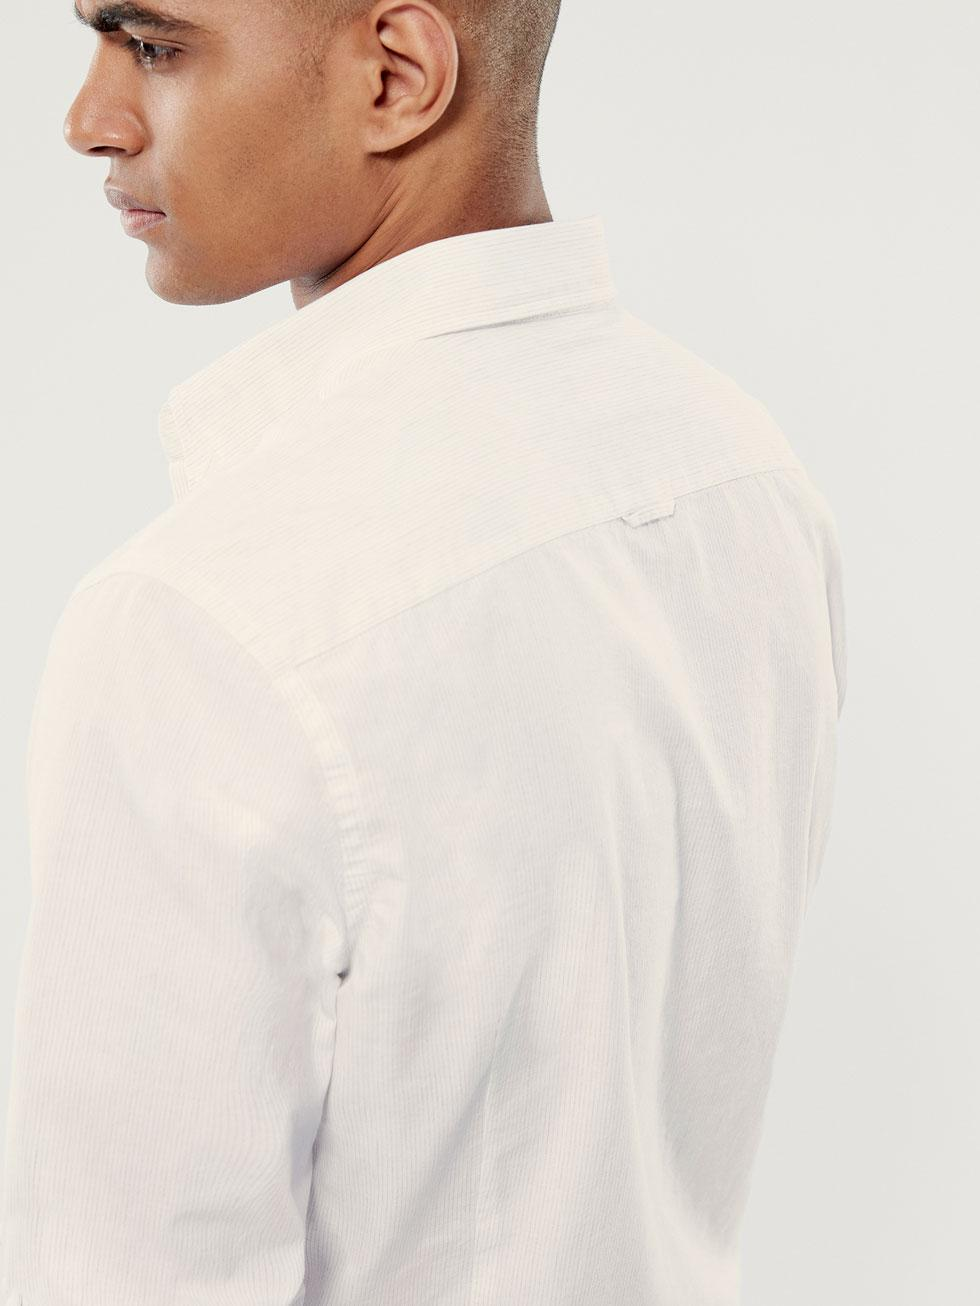teeshirt: (5, 215, 859, 1306)
